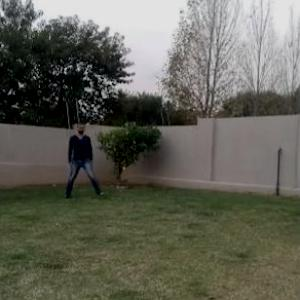follow: (71, 116, 90, 195)
